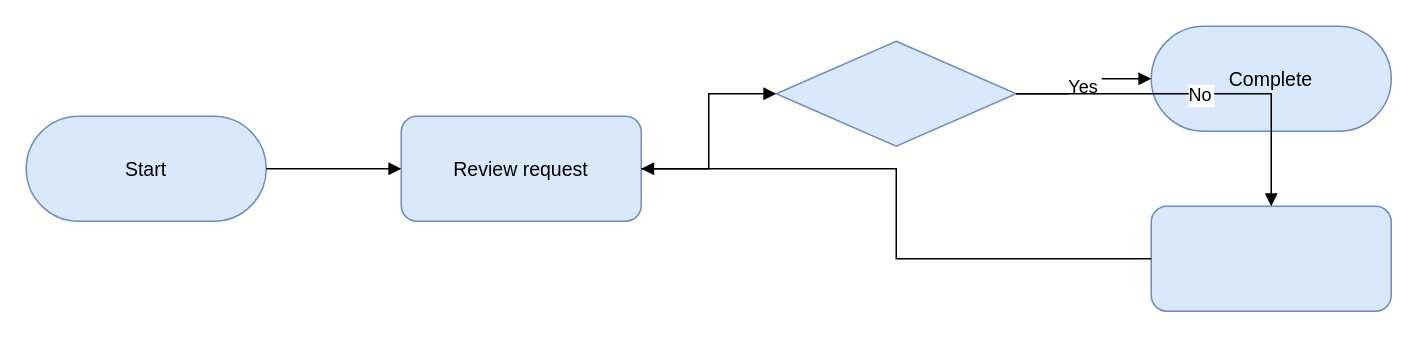
Some shapes in this 1418 by 338 pixel diagram are drawn without their labels. Each missing label, with the centre of its shape:
Approved?: point 895,93
Revise request: point 1270,258
